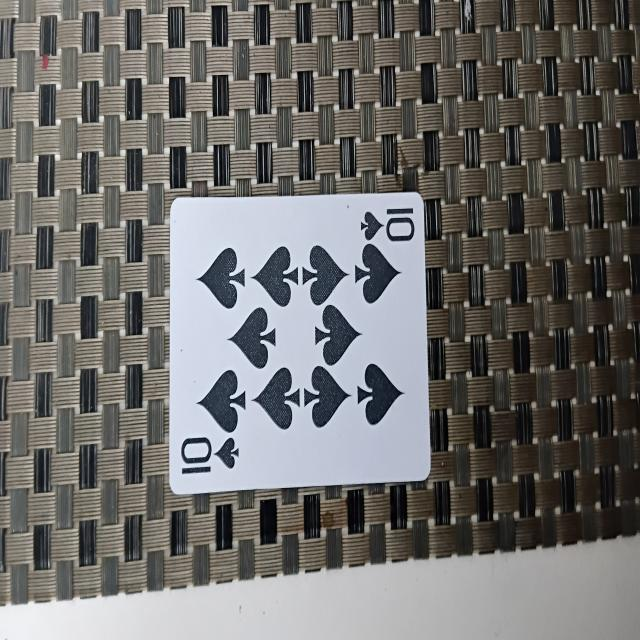10S: (167, 195, 430, 487)
